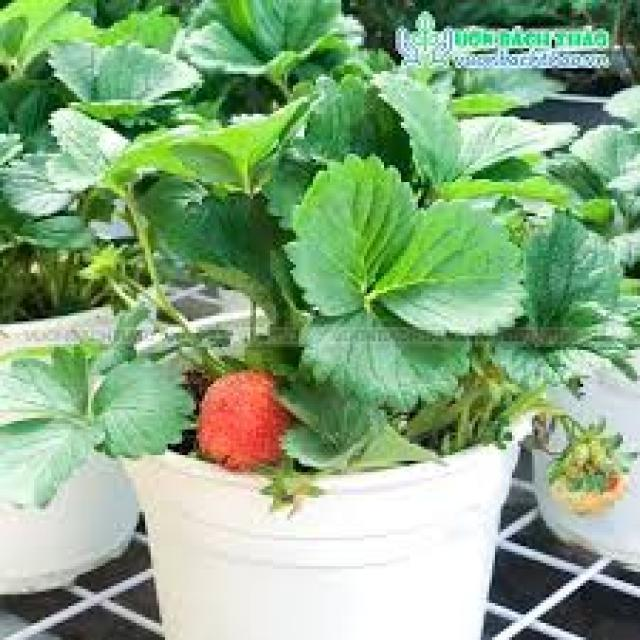Fruta sana: (198, 370, 284, 470)
